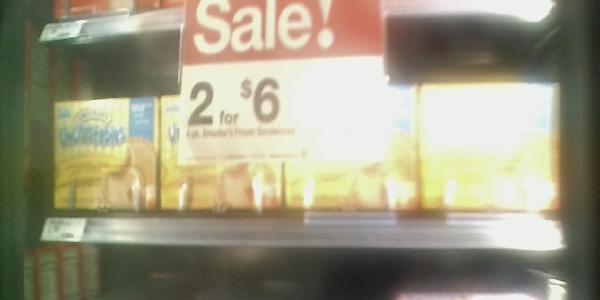icecream: (286, 83, 422, 215), (426, 82, 560, 212), (159, 95, 281, 211), (52, 96, 160, 212)
